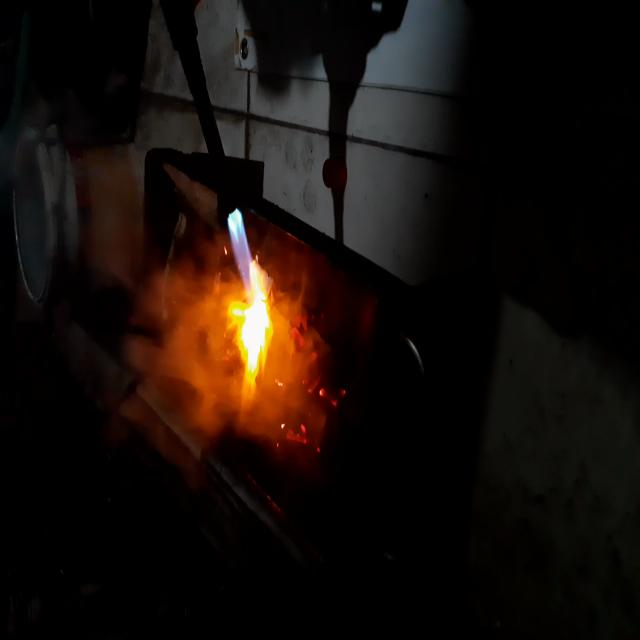Fire: (132, 259, 224, 441), (217, 202, 290, 422), (290, 338, 350, 475)
